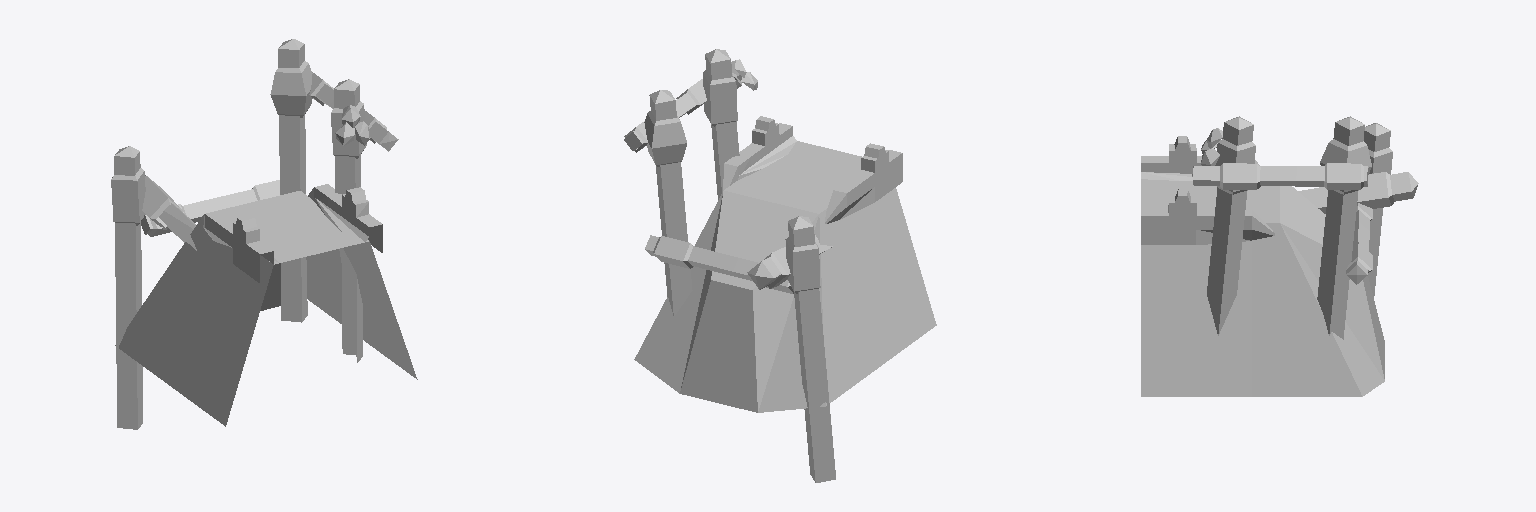
File: templeToPlankCapBVert_prefab.obj
3 views of the same model, side by side, from view 1: azimuth 30°, elevation 25°; view 2: azimuth 150°, elevation 25°; view 3: azimuth 270°, elevation 25° (orthographic).
Parts seen in each view (by area): view 1: Object73-Pivot; view 2: Object73-Pivot; view 3: Object73-Pivot.
Boxes of the visible parts, x1=… form: Object73-Pivot: x1=111, y1=39, x2=417, y2=429; Object73-Pivot: x1=624, y1=49, x2=936, y2=482; Object73-Pivot: x1=1141, y1=116, x2=1418, y2=396.
Size of the model in its own units: 43.19 by 69.39 by 50.1.